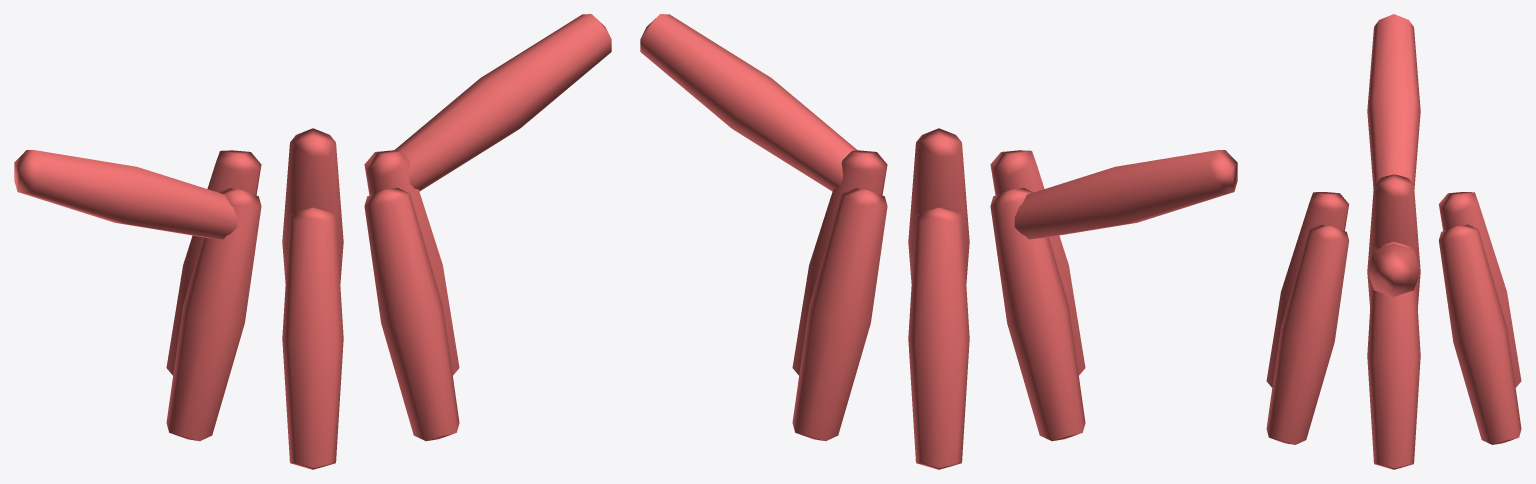
File: octopus_arm.obj
3 renders of one model, left to right at view 1: azimuth 30°, elevation 25°; view 2: azimuth 150°, elevation 25°; view 3: azimuth 270°, elevation 25°, orthographic. The views are drawn at different scales.
Parts seen in each view (by area): view 1: pCube2, pCube3, pCube8, pCube4, pCube7, pCube6, pCube1, pCube5; view 2: pCube6, pCube5, pCube8, pCube4, pCube7, pCube2, pCube1, pCube3; view 3: pCube2, pCube6, pCube1, pCube7, pCube4, pCube3, pCube5, pCube8.
Boxes of the visible parts, x1,y1,x2,y2 form: pCube2: [364, 188, 459, 441]; pCube3: [282, 207, 343, 469]; pCube8: [394, 14, 611, 191]; pCube4: [166, 188, 261, 441]; pCube7: [14, 150, 237, 239]; pCube6: [282, 128, 343, 283]; pCube1: [364, 150, 459, 375]; pCube5: [166, 150, 261, 375]; pCube6: [792, 188, 887, 441]; pCube5: [908, 207, 969, 469]; pCube8: [640, 14, 857, 191]; pCube4: [990, 188, 1085, 441]; pCube7: [1014, 150, 1237, 239]; pCube2: [908, 128, 969, 283]; pCube1: [792, 150, 887, 375]; pCube3: [990, 150, 1085, 375]; pCube2: [1266, 224, 1349, 444]; pCube6: [1438, 224, 1521, 444]; pCube1: [1367, 241, 1420, 469]; pCube7: [1367, 14, 1420, 189]; pCube4: [1367, 174, 1420, 308]; pCube3: [1266, 192, 1349, 387]; pCube5: [1438, 192, 1521, 387]; pCube8: [1367, 243, 1420, 296].
Bounding box in the file's own units: 6.55 × 3.46 × 2.81.
